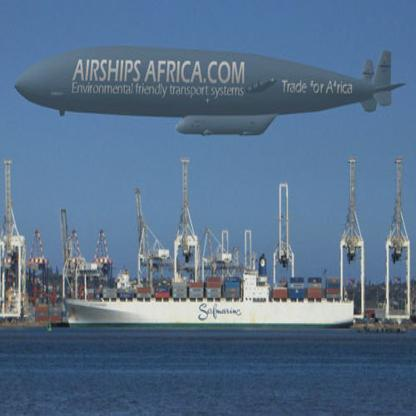Airship: (10, 39, 411, 146)
